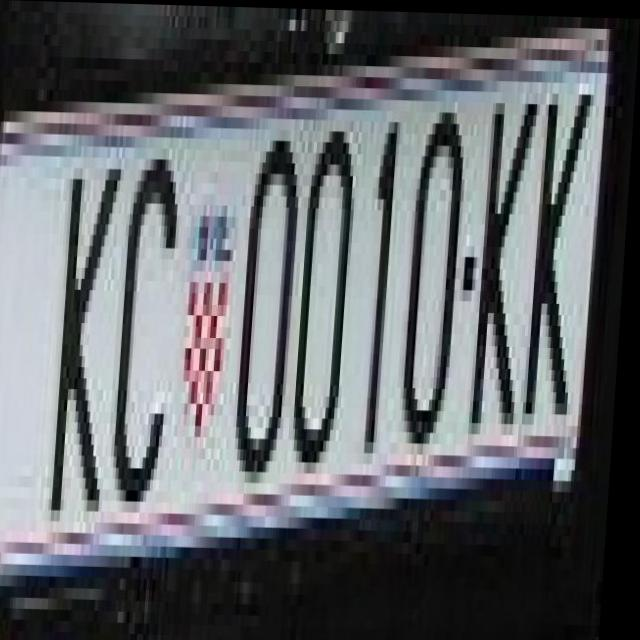0: (233, 106, 309, 493), (399, 76, 475, 453), (293, 96, 362, 472)
1: (363, 87, 410, 462)
C: (114, 125, 191, 512)
K: (48, 156, 124, 533), (525, 68, 596, 422), (474, 56, 538, 432)
